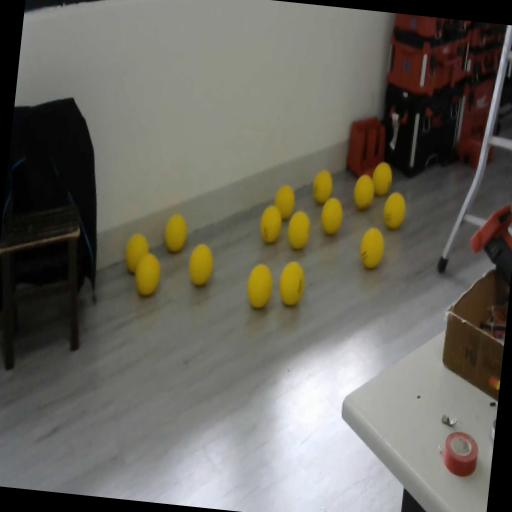FUEL: (244, 261, 276, 310), (132, 250, 163, 298), (276, 259, 306, 308), (186, 242, 216, 288), (358, 226, 386, 270), (286, 208, 312, 252), (163, 212, 189, 253), (318, 196, 344, 237), (258, 204, 284, 245), (382, 190, 408, 230), (272, 182, 298, 221), (352, 174, 376, 211), (310, 168, 334, 204), (371, 160, 394, 196)
